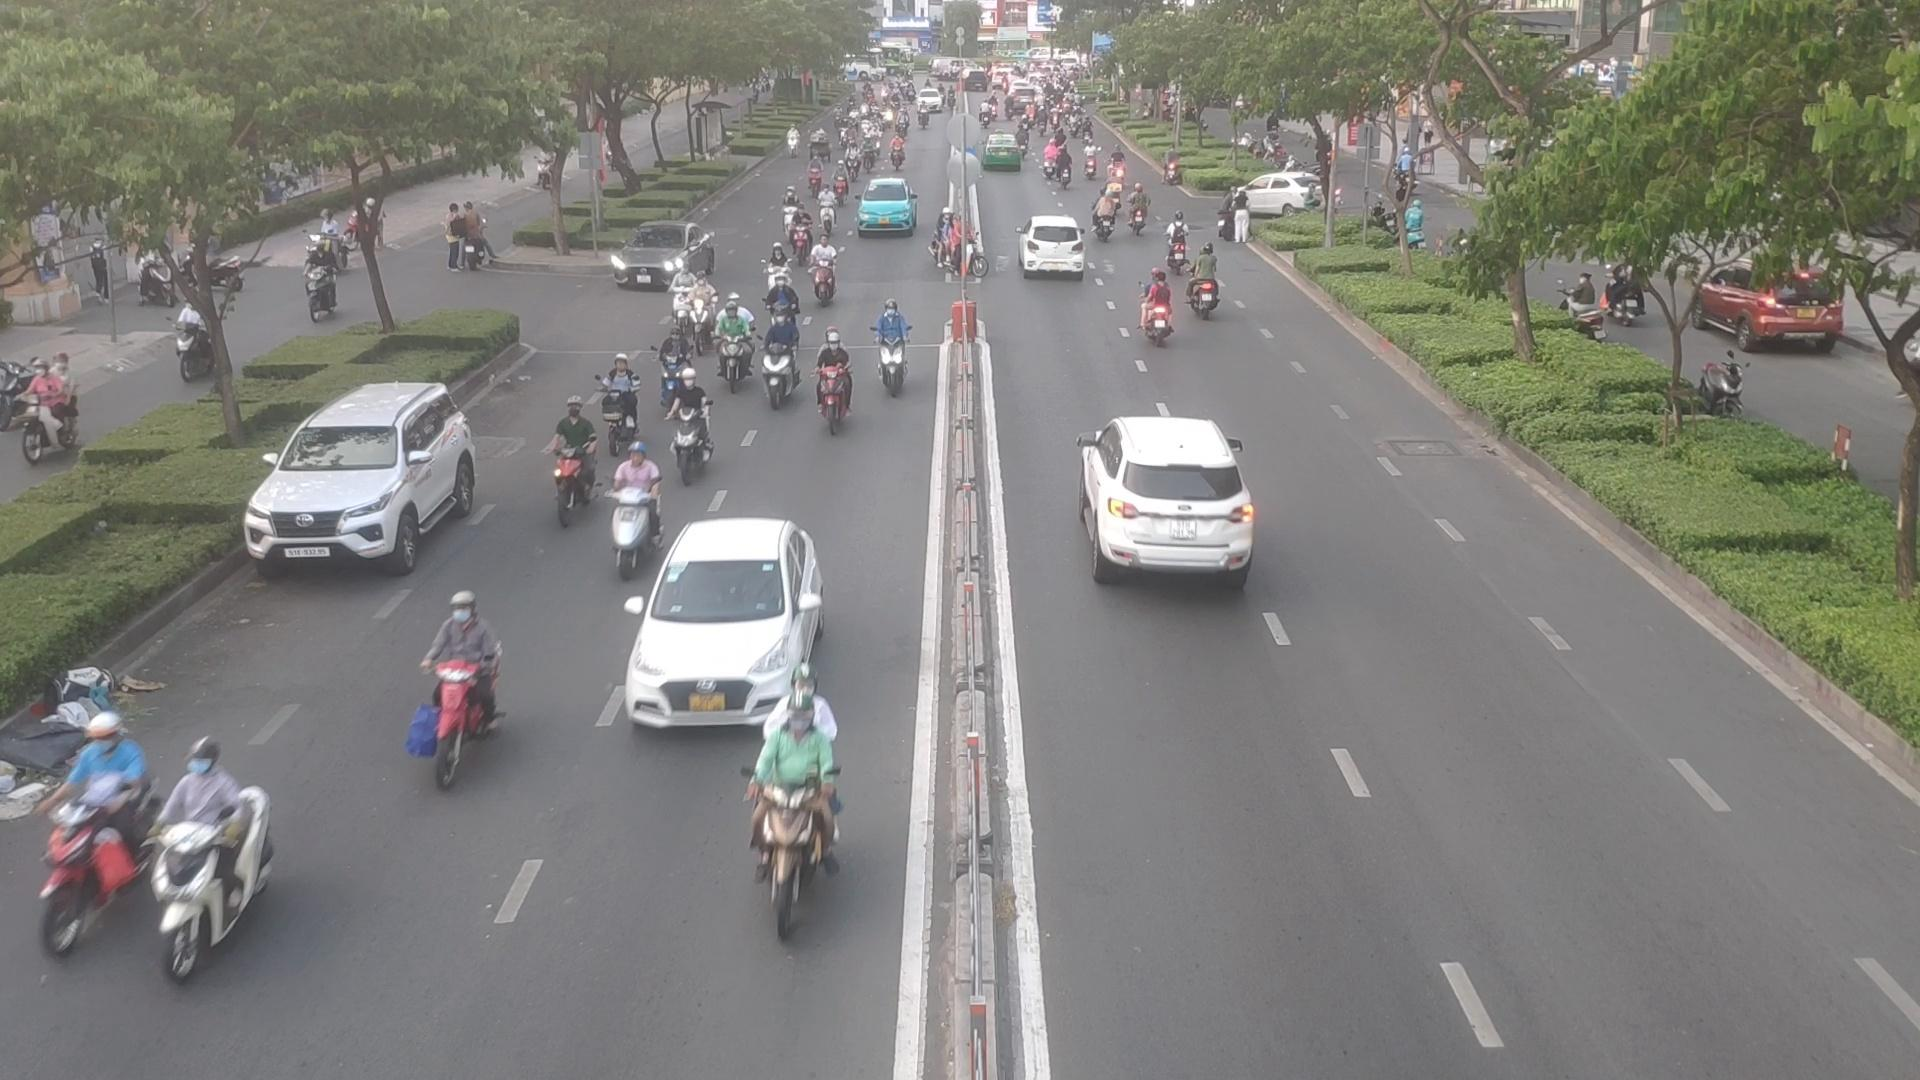car: (245, 382, 491, 572), (611, 520, 825, 732), (1077, 418, 1254, 579), (611, 224, 716, 293), (1018, 216, 1089, 280), (1237, 173, 1323, 218), (856, 179, 922, 237)
motorbike: (18, 703, 161, 938), (138, 748, 284, 967), (753, 686, 841, 895), (410, 659, 512, 791), (604, 442, 662, 566), (542, 404, 595, 527), (589, 361, 646, 456), (673, 372, 713, 485), (818, 330, 855, 444), (1138, 269, 1182, 353), (767, 316, 800, 419), (680, 266, 716, 361), (712, 297, 752, 380), (655, 328, 694, 404), (1192, 240, 1226, 322), (878, 297, 909, 389), (761, 268, 800, 338), (665, 262, 696, 339), (814, 239, 845, 302), (1164, 203, 1189, 272), (1091, 190, 1118, 249), (1127, 179, 1153, 243), (782, 210, 814, 258), (761, 240, 789, 291), (816, 179, 837, 237), (781, 185, 802, 228)
